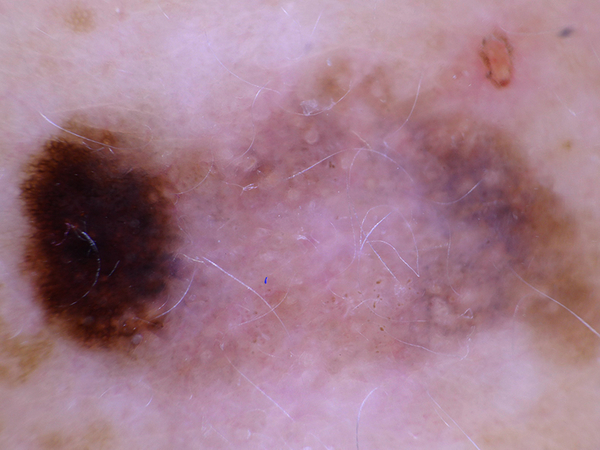Detected Lesion: (14, 138, 193, 349)
